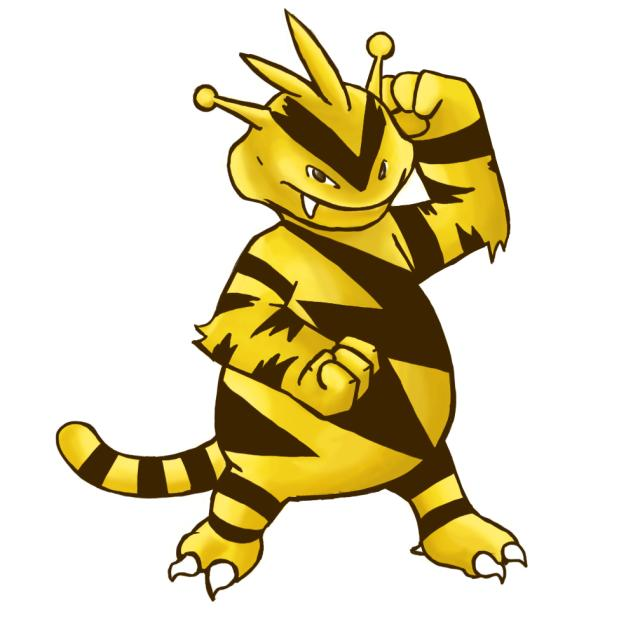Electabuzz: (194, 43, 507, 590)
